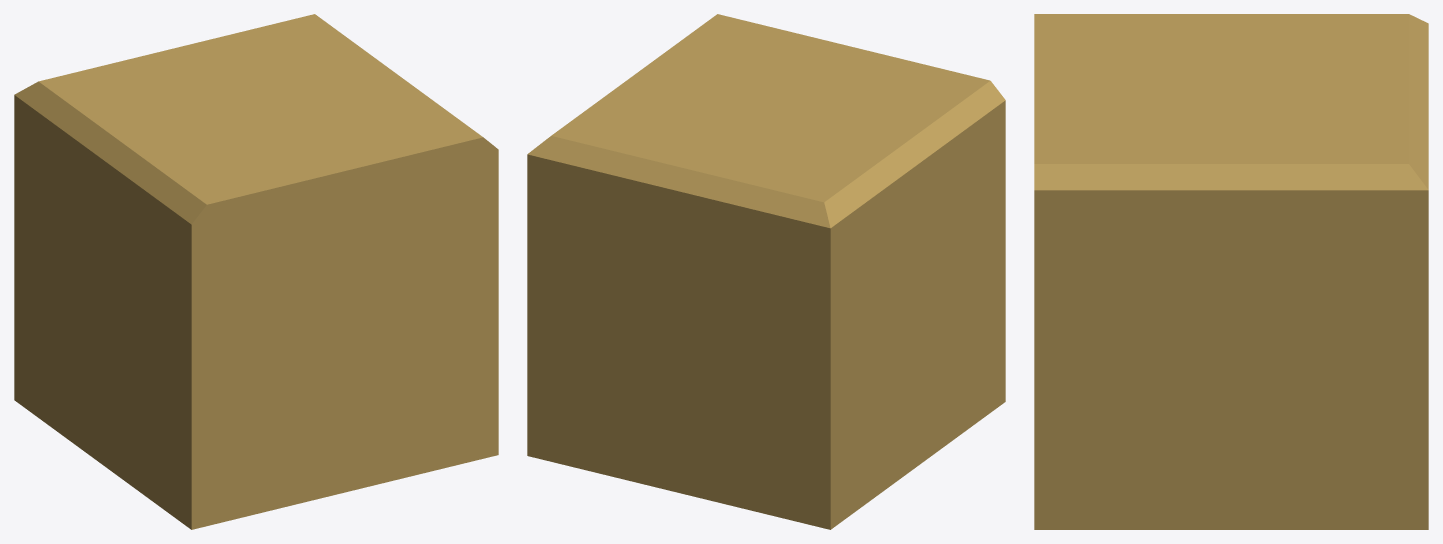
Rendered from wall_3.fbx.
The picture shows the model from 3 angles, left to right: view 1: azimuth 30°, elevation 25°; view 2: azimuth 150°, elevation 25°; view 3: azimuth 270°, elevation 25°; orthographic projection. The views are drawn at different scales.
Parts seen in each view (by area): view 1: wall_3; view 2: wall_3; view 3: wall_3.
Boxes of the visible parts, x1,y1,x2,y2 form: wall_3: (14, 14, 498, 529); wall_3: (527, 14, 1005, 529); wall_3: (1034, 14, 1428, 529).
Size of the model in its own units: 100 by 100 by 100.
